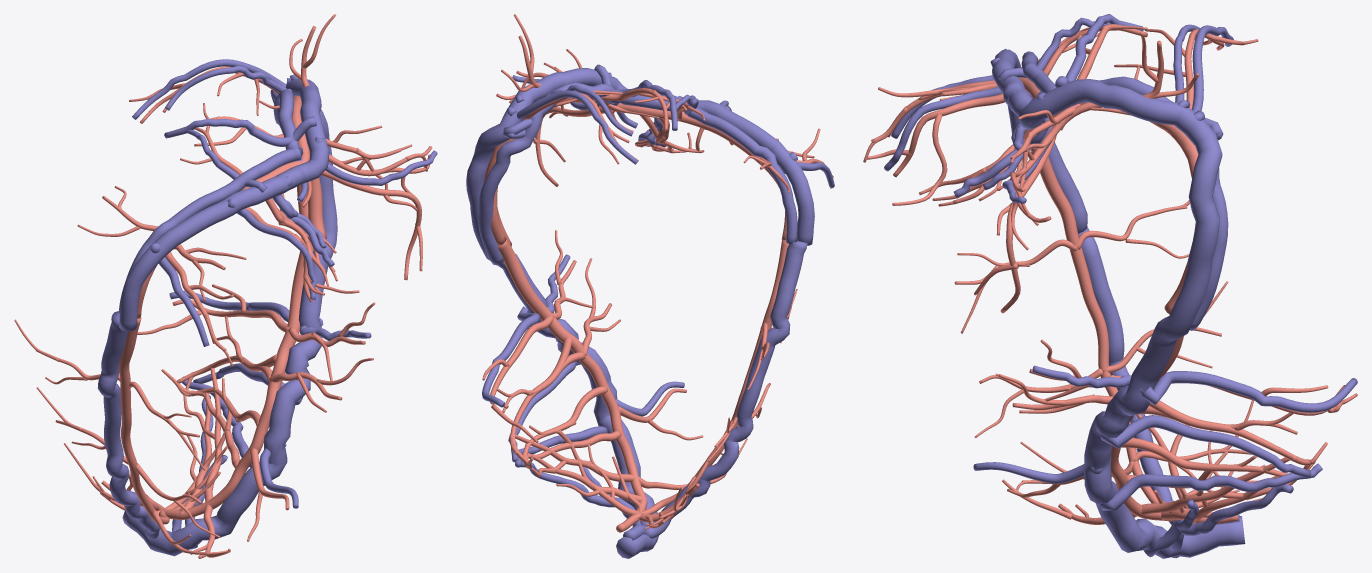
Rendered from vessels_74.glb.
The picture shows the model from 3 angles, left to right: view 1: azimuth 30°, elevation 25°; view 2: azimuth 150°, elevation 25°; view 3: azimuth 270°, elevation 25°; orthographic projection. The views are drawn at different scales.
Parts seen in each view (by area): view 1: Renderer Node; view 2: Renderer Node; view 3: Renderer Node.
Boxes of the visible parts, <box> form: Renderer Node: <box>14,14,437,558</box>; Renderer Node: <box>466,14,834,558</box>; Renderer Node: <box>863,14,1357,558</box>.
Size of the model in its own units: 88.99 by 124 by 90.59.
